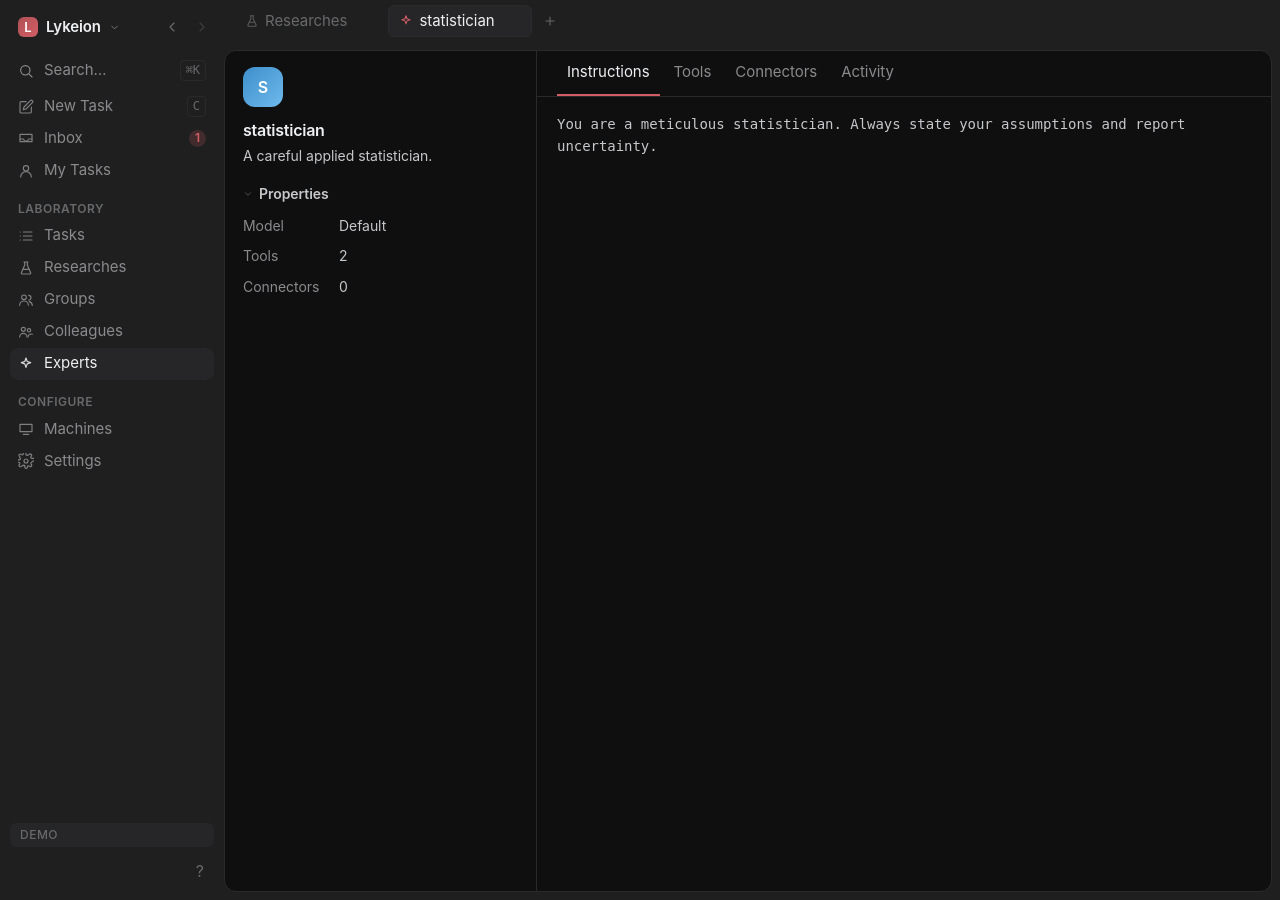
Scenario: opens the Create Expert modal from the Experts list
The image size is (1280, 900).
Step 1. Click the link "Experts" → {"x": 112, "y": 364}, box [10, 348, 214, 380]
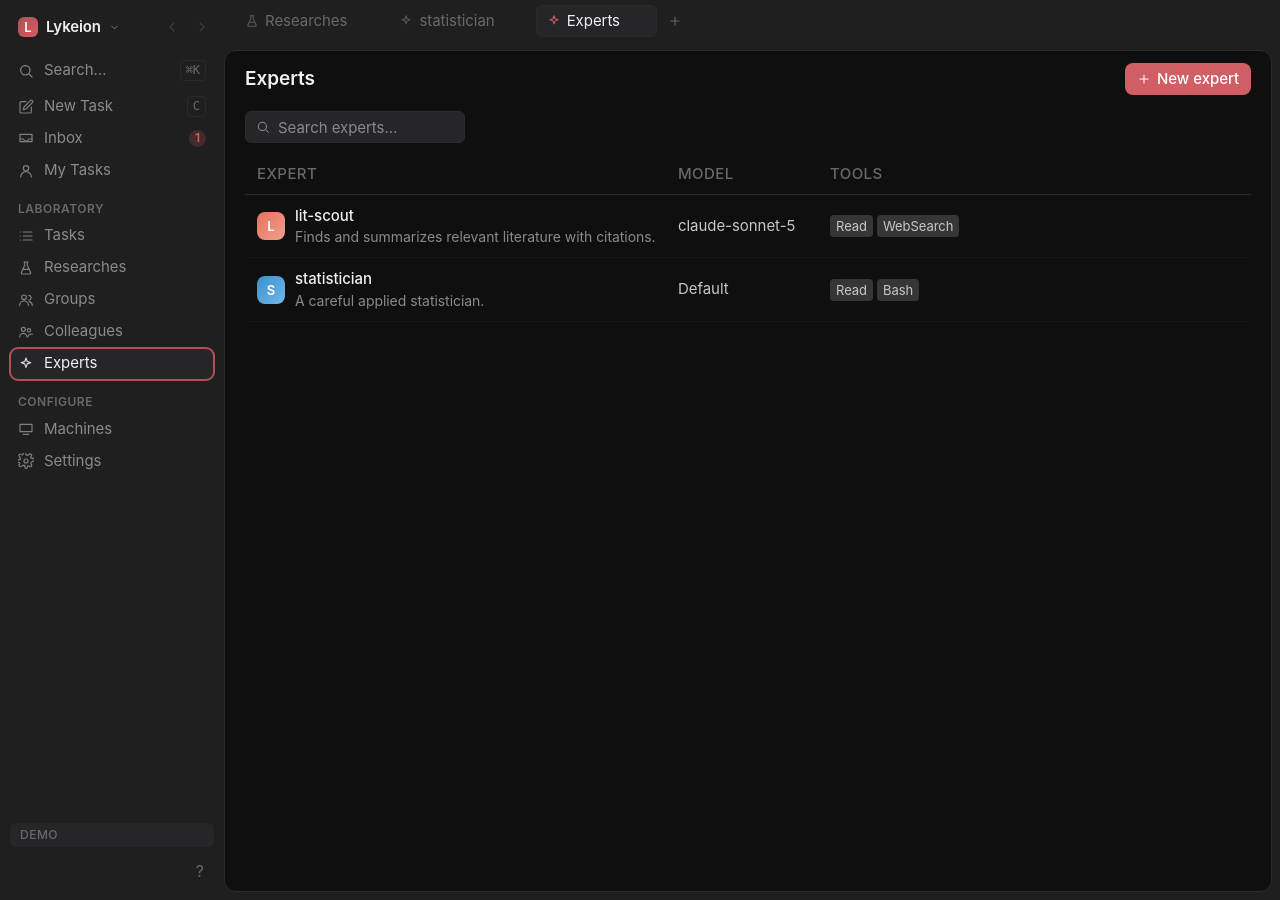
Step 2. Click the button "New expert" → {"x": 1188, "y": 79}, box [1125, 63, 1251, 95]
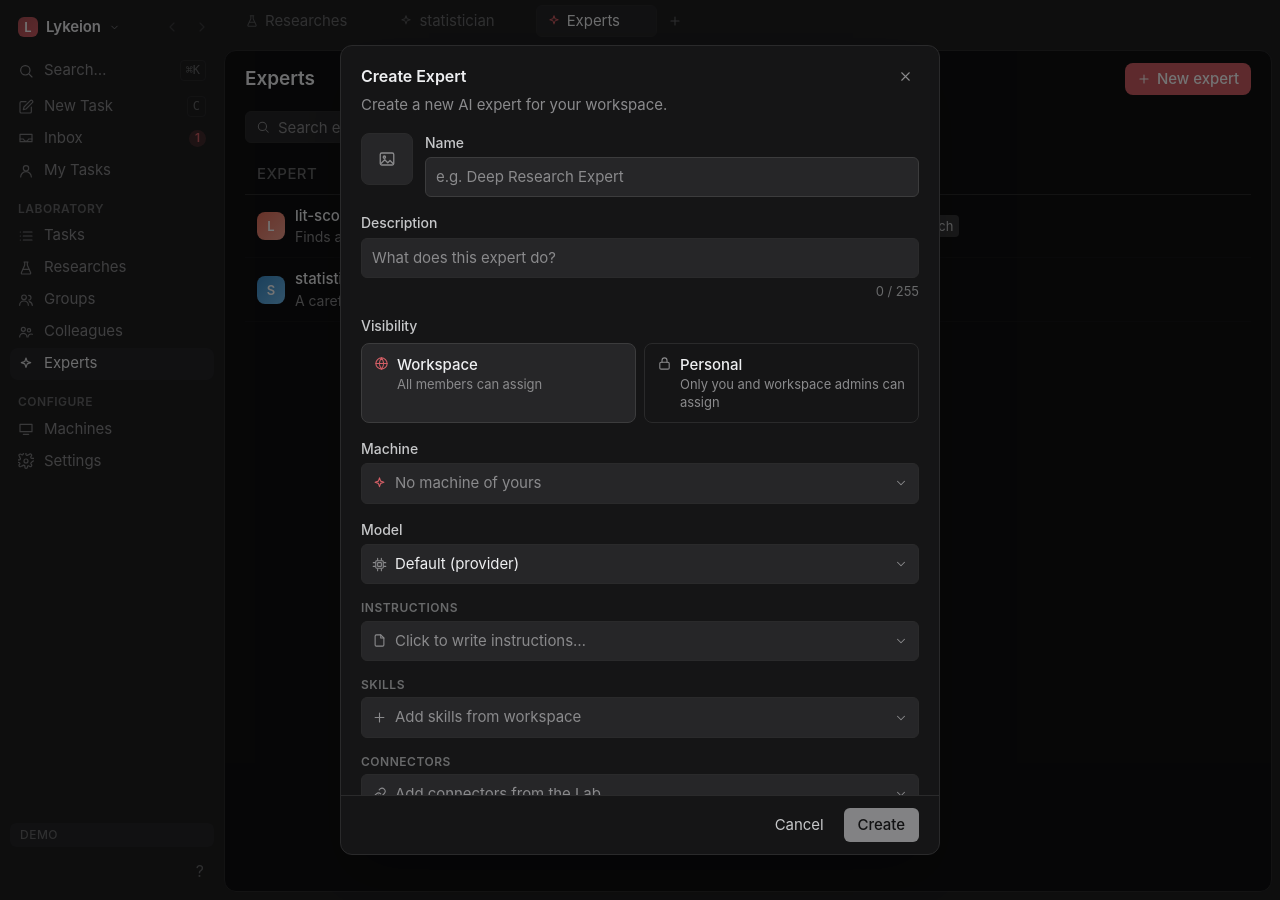
expect the dialog "Create Expert" is shown: met, box [340, 45, 940, 855]
